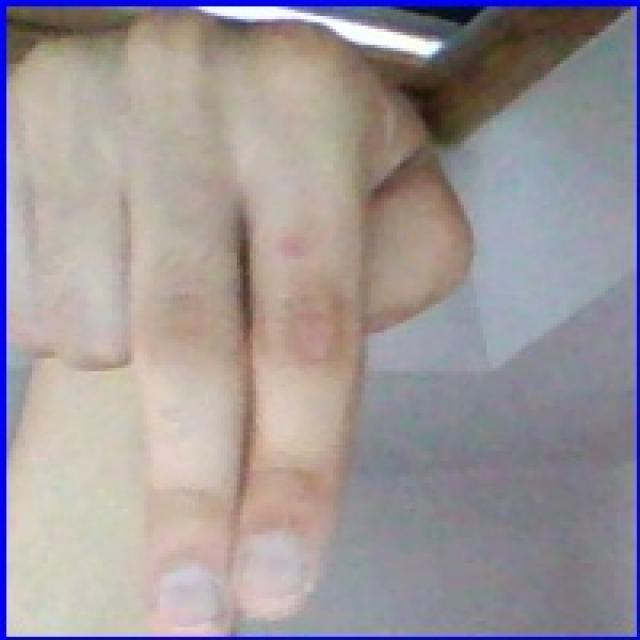Letra-N: (12, 5, 492, 640)
